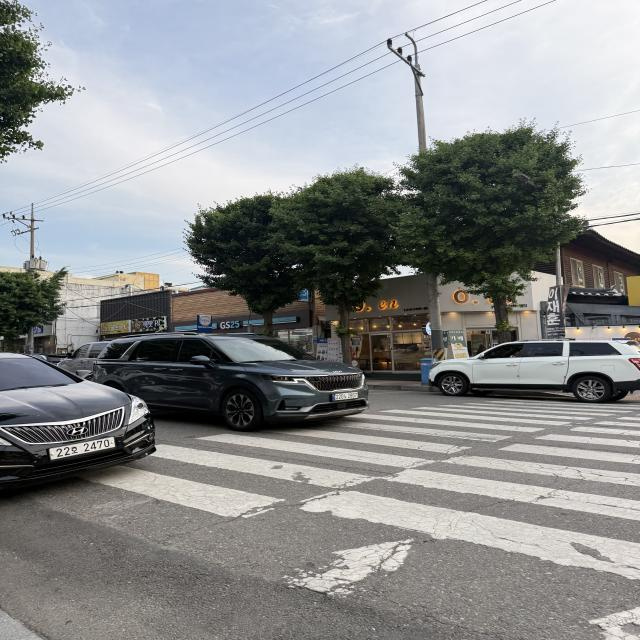car: (91, 330, 375, 435), (0, 348, 157, 492), (415, 334, 640, 401)
